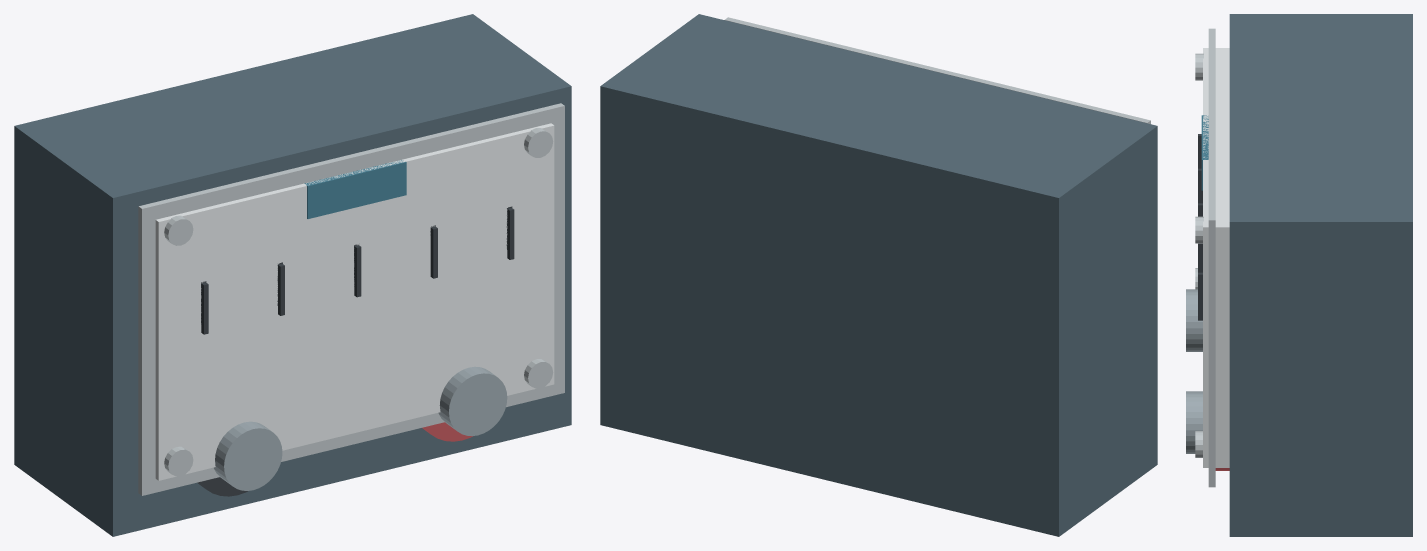
The model's file is voltmeter_lod1.glb.
3 views of the same model, side by side, from view 1: azimuth 30°, elevation 25°; view 2: azimuth 150°, elevation 25°; view 3: azimuth 270°, elevation 25° (orthographic). The views are drawn at different scales.
Parts seen in each view (by area): view 1: VOL_BODY_MAT_METAL_DARK, VOL_FACE_INSET_MAT_WHITE, VOL_FACE_BEZEL_MAT_STAINLESS, VOL_LABEL_MAT_POLYMER_BLUE, VOL_PORT_COM_MAT_METAL_BRUSHED, VOL_PORT_INPUT_MAT_METAL_BRUSHED, VOL_FACE_SCREW_2_MAT_STAINLESS, VOL_FACE_SCREW_0_MAT_STAINLESS, VOL_FACE_SCREW_3_MAT_STAINLESS, VOL_FACE_SCREW_1_MAT_STAINLESS; view 2: VOL_BODY_MAT_METAL_DARK, VOL_FACE_BEZEL_MAT_STAINLESS; view 3: VOL_BODY_MAT_METAL_DARK, VOL_FACE_MAT_WHITE, VOL_FACE_BEZEL_MAT_STAINLESS, VOL_FACE_INSET_MAT_WHITE, VOL_PORT_COM_MAT_METAL_BRUSHED, VOL_PORT_INPUT_MAT_METAL_BRUSHED, VOL_LABEL_MAT_POLYMER_BLUE.
Boxes of the visible parts, left/top/right/bottom form: VOL_BODY_MAT_METAL_DARK: left=14, top=14, right=571, bottom=536; VOL_FACE_INSET_MAT_WHITE: left=155, top=123, right=554, bottom=480; VOL_FACE_BEZEL_MAT_STAINLESS: left=138, top=103, right=564, bottom=495; VOL_LABEL_MAT_POLYMER_BLUE: left=304, top=160, right=406, bottom=218; VOL_PORT_COM_MAT_METAL_BRUSHED: left=214, top=421, right=282, bottom=490; VOL_PORT_INPUT_MAT_METAL_BRUSHED: left=438, top=366, right=507, bottom=436; VOL_FACE_SCREW_2_MAT_STAINLESS: left=164, top=215, right=193, bottom=245; VOL_FACE_SCREW_0_MAT_STAINLESS: left=164, top=446, right=193, bottom=476; VOL_FACE_SCREW_3_MAT_STAINLESS: left=524, top=128, right=553, bottom=157; VOL_FACE_SCREW_1_MAT_STAINLESS: left=524, top=359, right=553, bottom=388; VOL_BODY_MAT_METAL_DARK: left=600, top=14, right=1157, bottom=536; VOL_FACE_BEZEL_MAT_STAINLESS: left=724, top=17, right=1150, bottom=124; VOL_BODY_MAT_METAL_DARK: left=1229, top=14, right=1412, bottom=536; VOL_FACE_MAT_WHITE: left=1215, top=48, right=1229, bottom=467; VOL_FACE_BEZEL_MAT_STAINLESS: left=1208, top=28, right=1215, bottom=487; VOL_FACE_INSET_MAT_WHITE: left=1203, top=48, right=1208, bottom=467; VOL_PORT_COM_MAT_METAL_BRUSHED: left=1186, top=289, right=1202, bottom=351; VOL_PORT_INPUT_MAT_METAL_BRUSHED: left=1186, top=391, right=1202, bottom=453; VOL_LABEL_MAT_POLYMER_BLUE: left=1201, top=115, right=1208, bottom=190.
Bounding box in the file's own units: 1.02 × 0.74 × 0.47.
